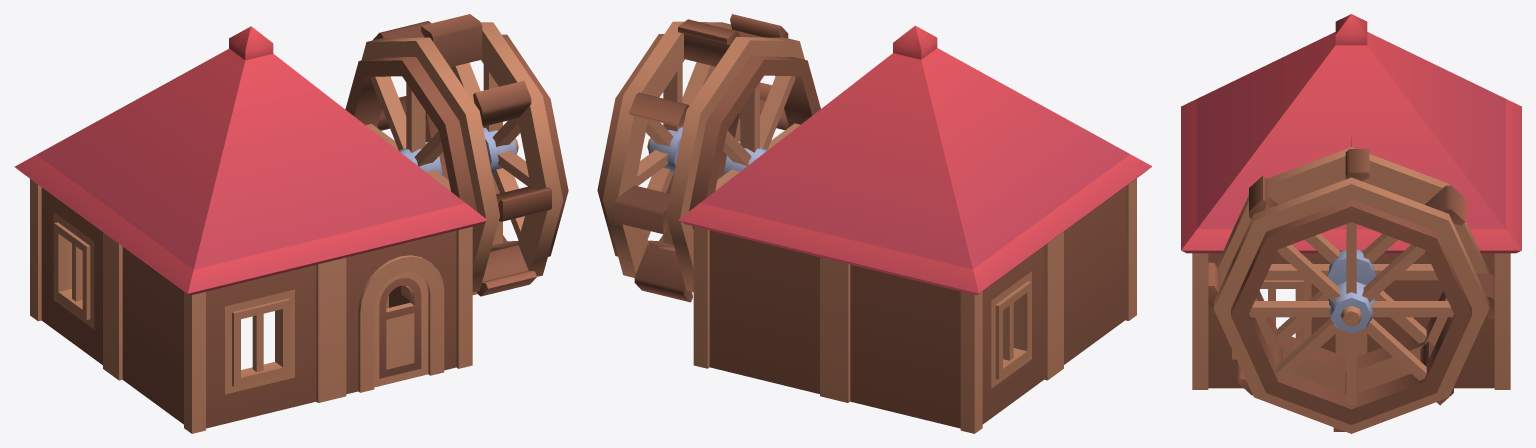
Rendered from watermill.glb.
3 renders of one model, left to right at view 1: azimuth 30°, elevation 25°; view 2: azimuth 150°, elevation 25°; view 3: azimuth 270°, elevation 25°, orthographic.
Parts seen in each view (by area): view 1: watermill; view 2: watermill; view 3: watermill.
Part boxes in pixels (x1,y1,x2,y2): watermill: (14, 14, 568, 433); watermill: (597, 14, 1151, 433); watermill: (1181, 14, 1521, 433).
Bounding box in the file's own units: 8.84 × 6.42 × 6.42.
13 materials, 13 textured.
